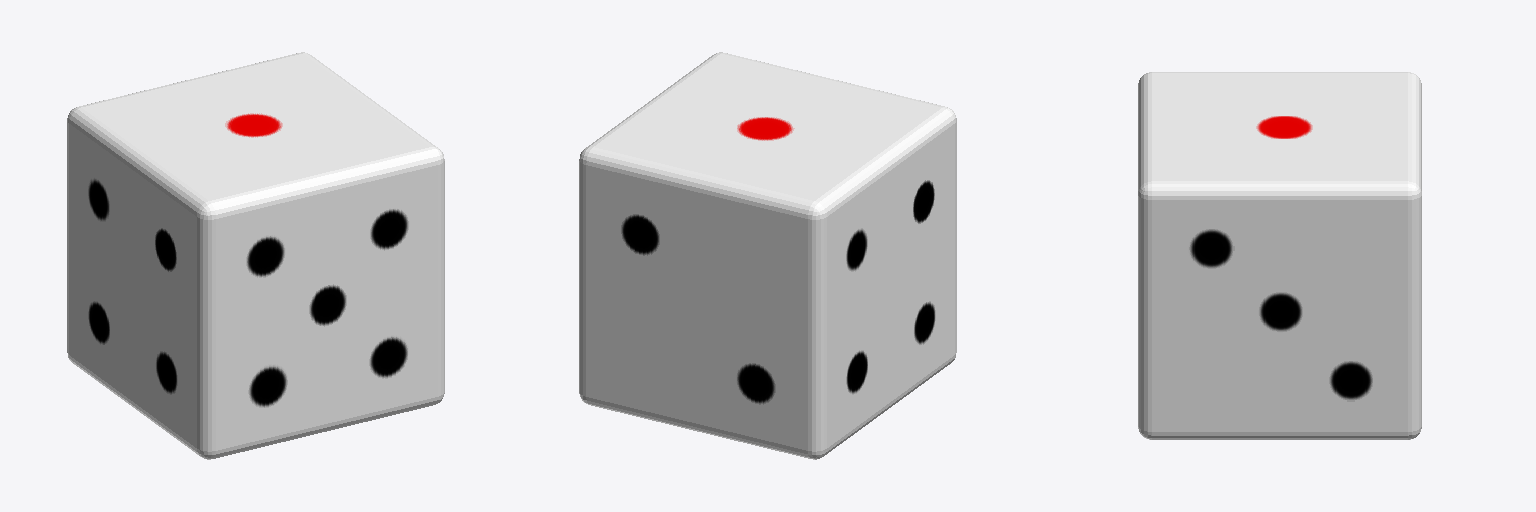
The picture shows the model from 3 angles: view 1: azimuth 30°, elevation 25°; view 2: azimuth 150°, elevation 25°; view 3: azimuth 270°, elevation 25°; orthographic projection.
Visible parts, largest first — view 1: dice; view 2: dice; view 3: dice.
Part boxes in pixels (x1,y1,x2,y2): dice: (67,52,444,459); dice: (579,52,956,459); dice: (1138,72,1421,439).
Size of the model in its own units: 2 by 2 by 2.
1 materials, 1 textured.